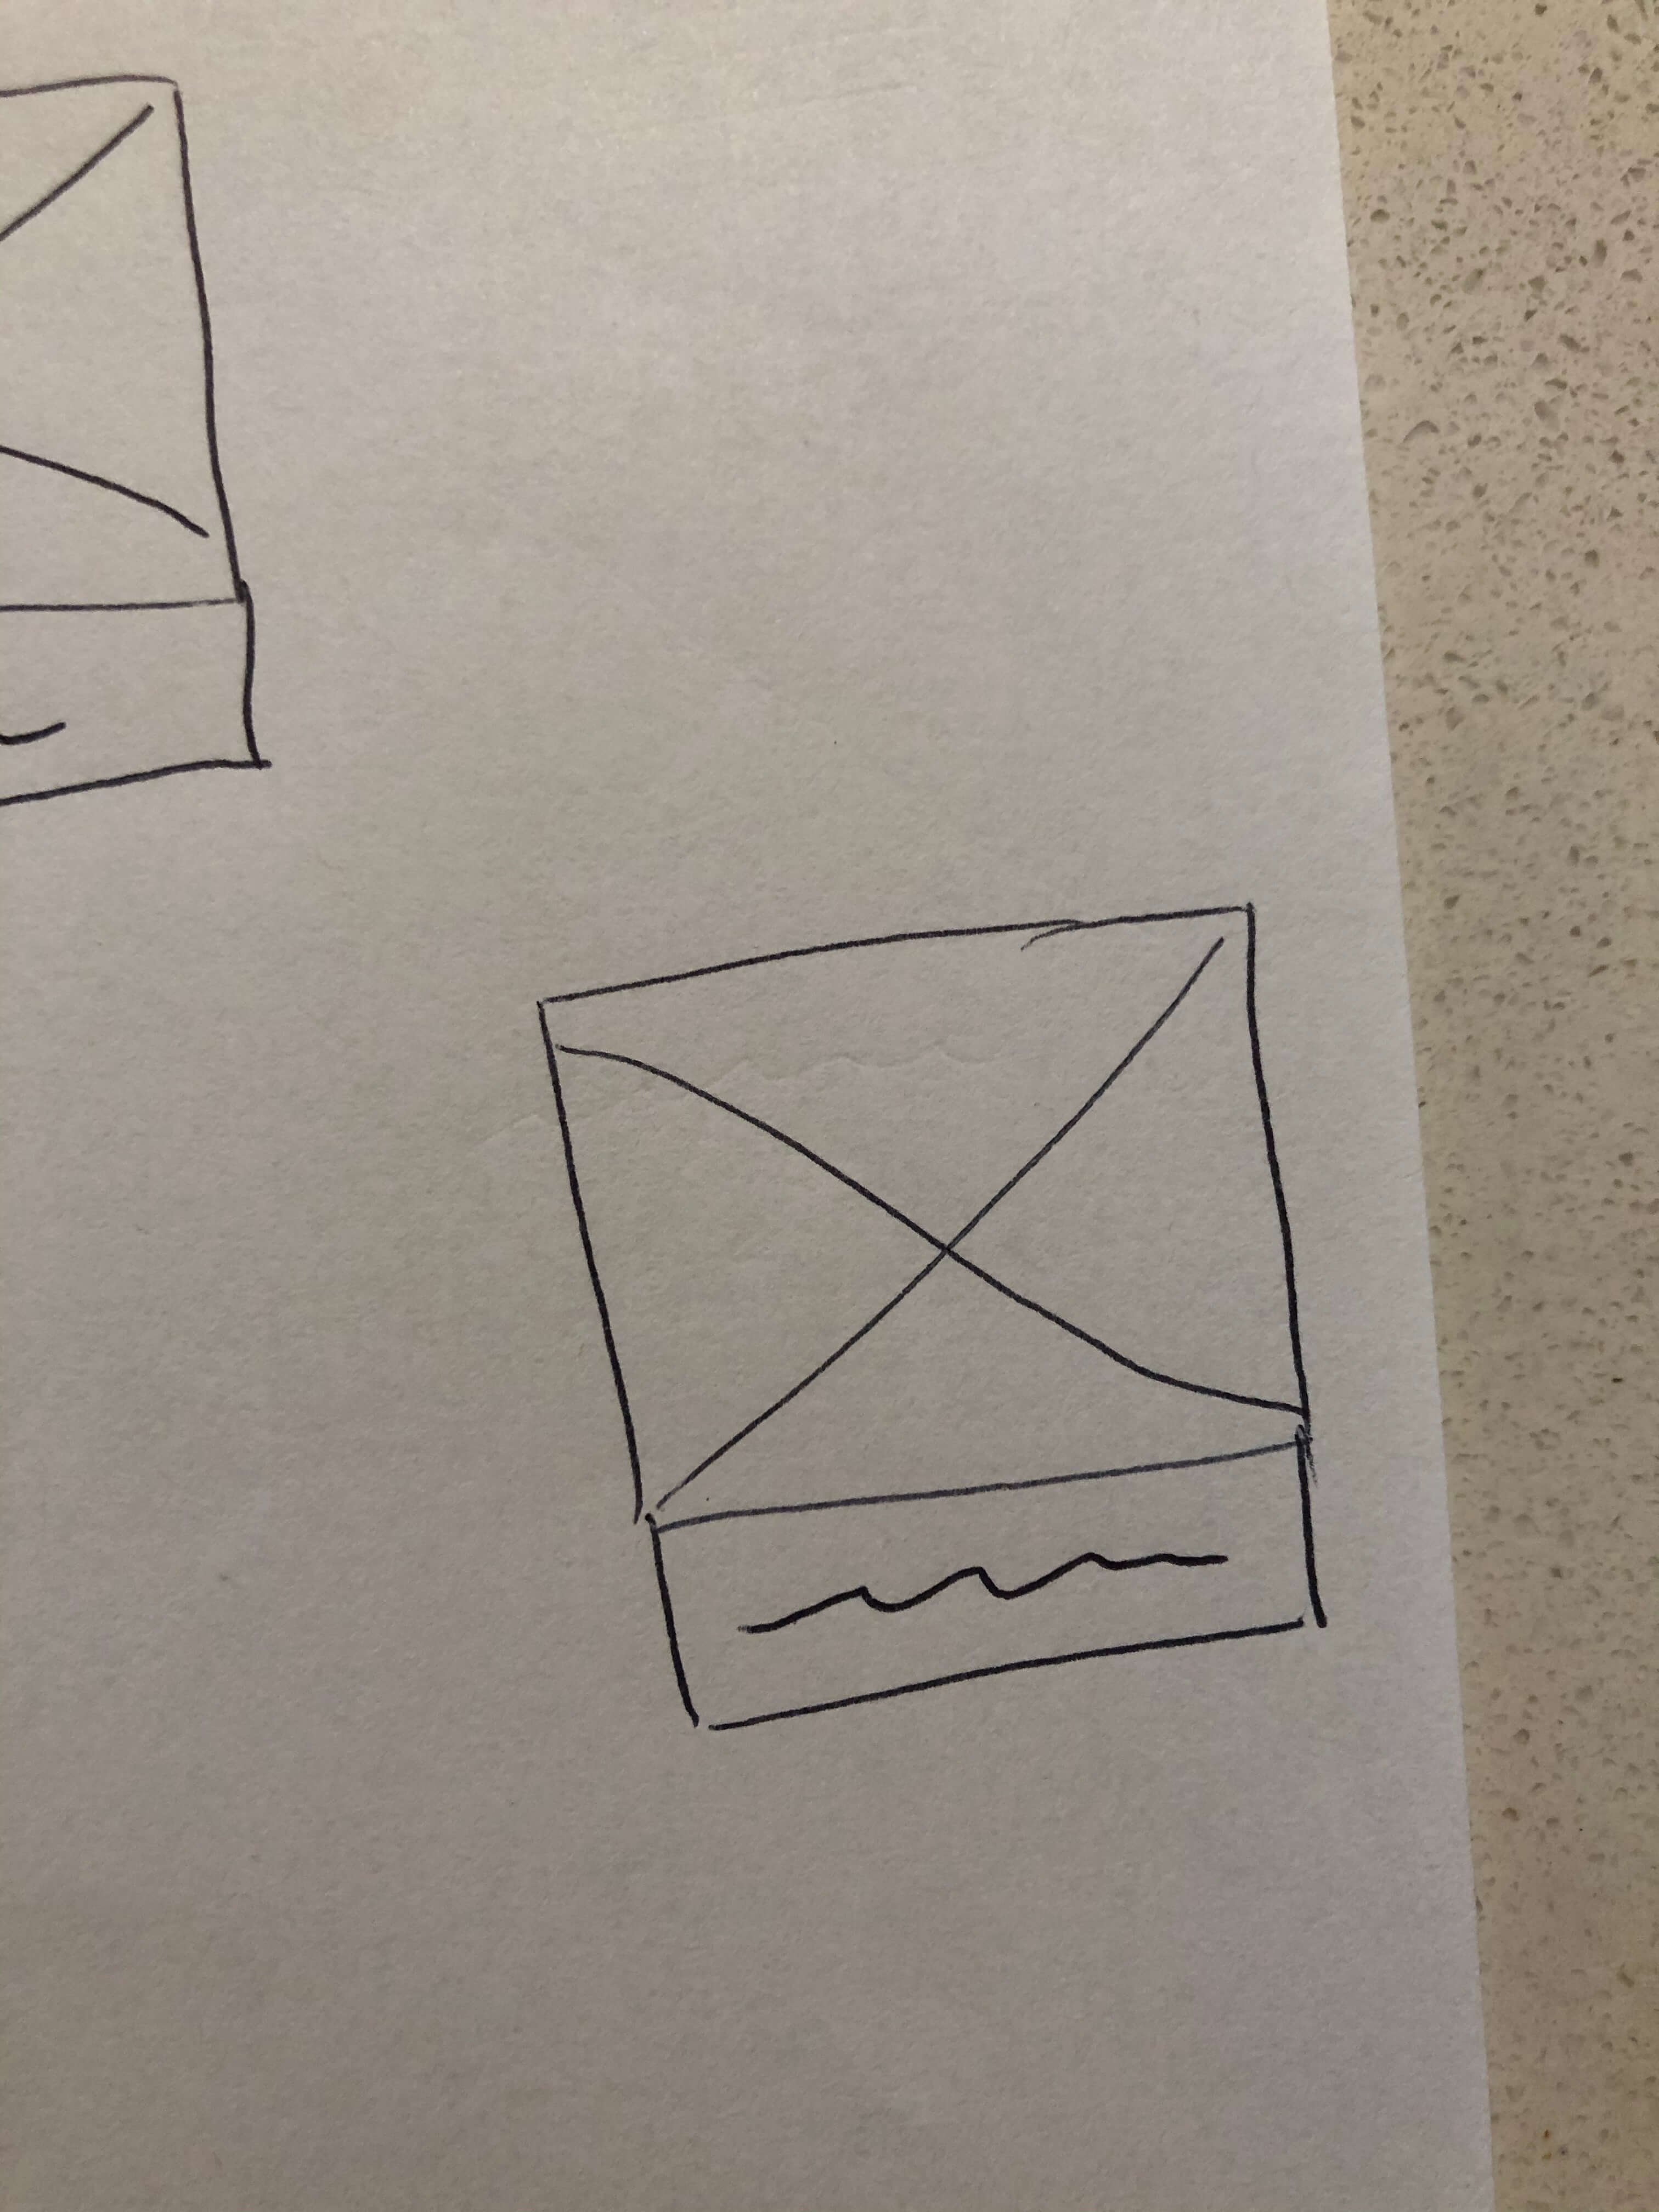card: (512, 883, 1349, 1743)
